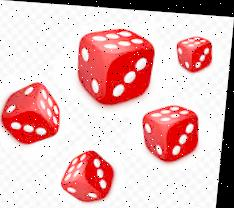cube: (75, 24, 158, 106), (0, 79, 67, 147), (143, 102, 205, 162), (63, 148, 120, 204), (176, 33, 215, 70)
